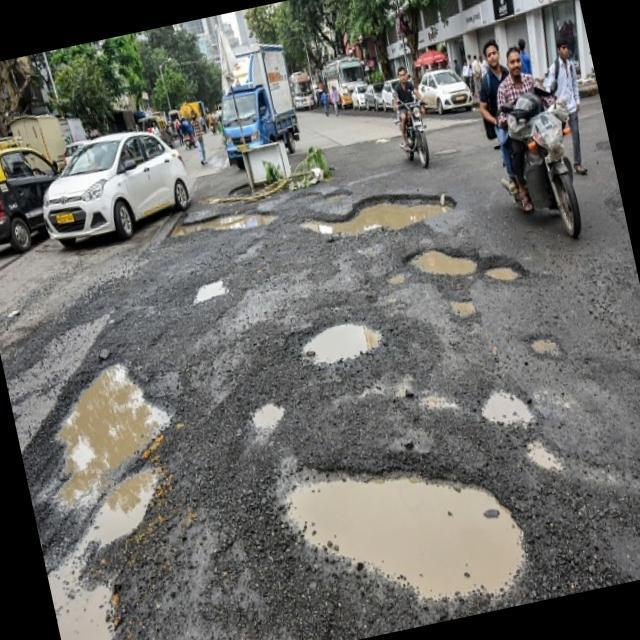Pothole: (8, 353, 231, 640), (262, 414, 542, 640), (282, 157, 476, 257), (279, 289, 395, 376), (171, 189, 304, 256), (386, 227, 488, 303), (470, 376, 540, 444), (518, 418, 569, 479), (239, 392, 288, 444), (471, 248, 525, 290), (524, 324, 573, 370), (182, 274, 227, 314), (441, 282, 480, 319)
